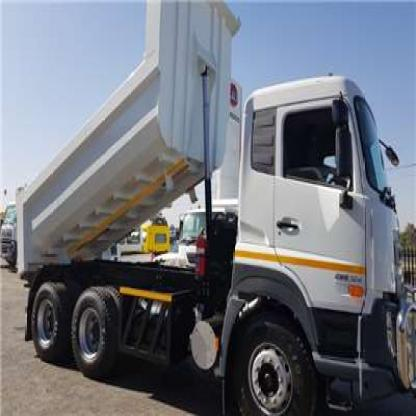dump_truck: (6, 0, 412, 405)
